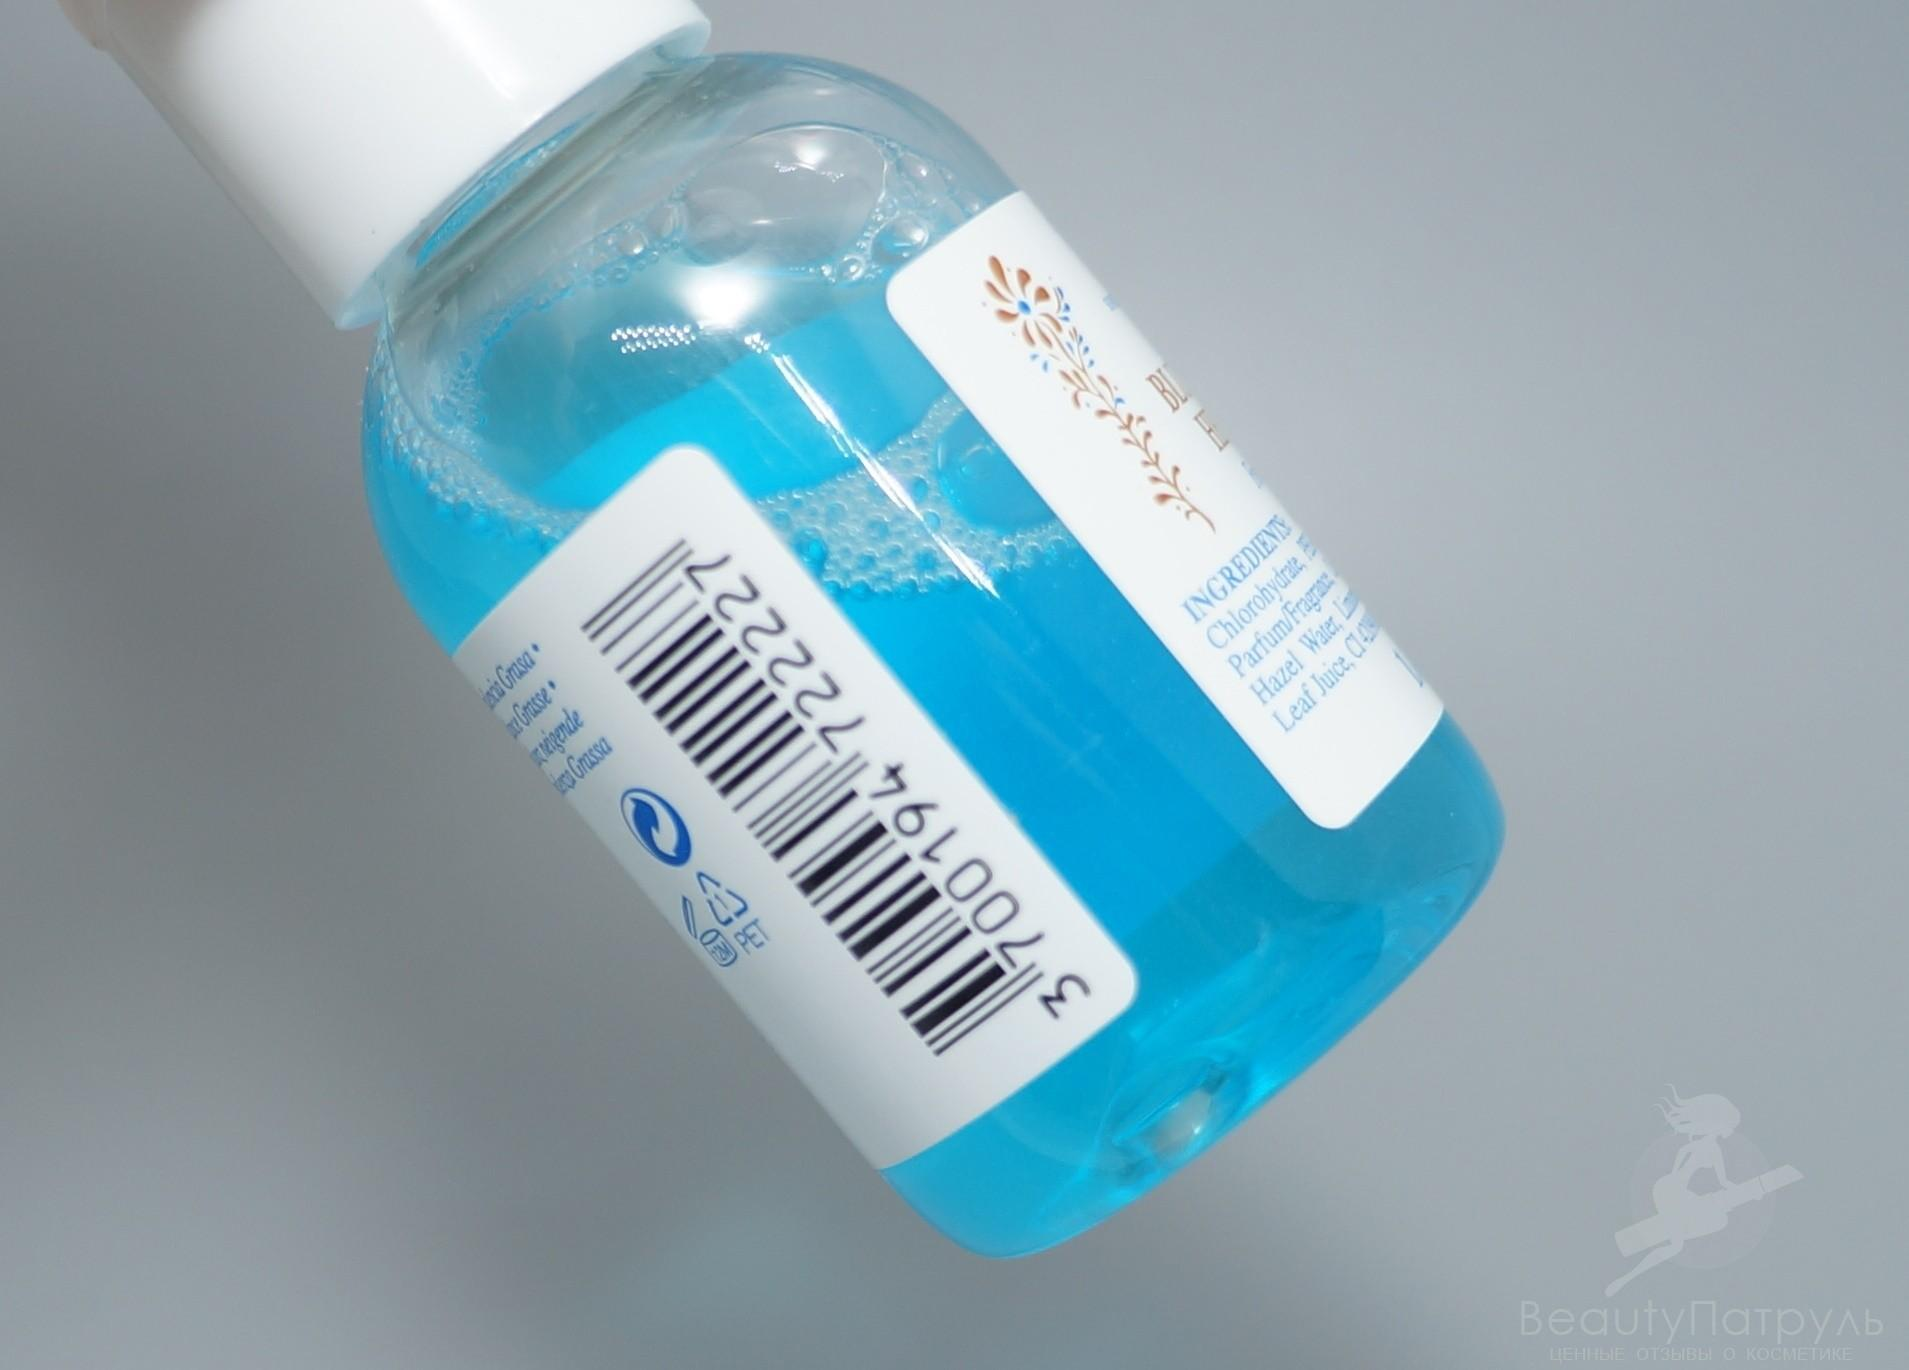paper: (1521, 1088, 1884, 1364)
plastic: (233, 33, 1501, 1253)
